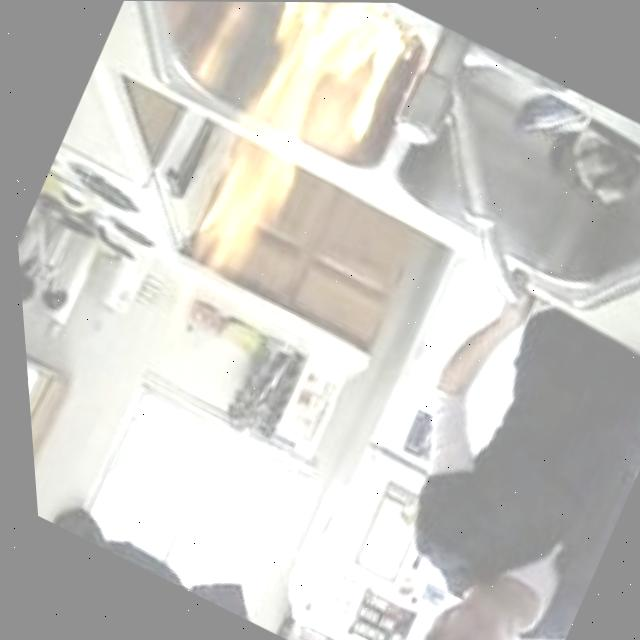Fire: (135, 1, 434, 315)
